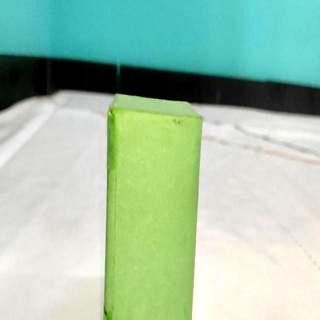greenbox: (104, 87, 206, 320)
